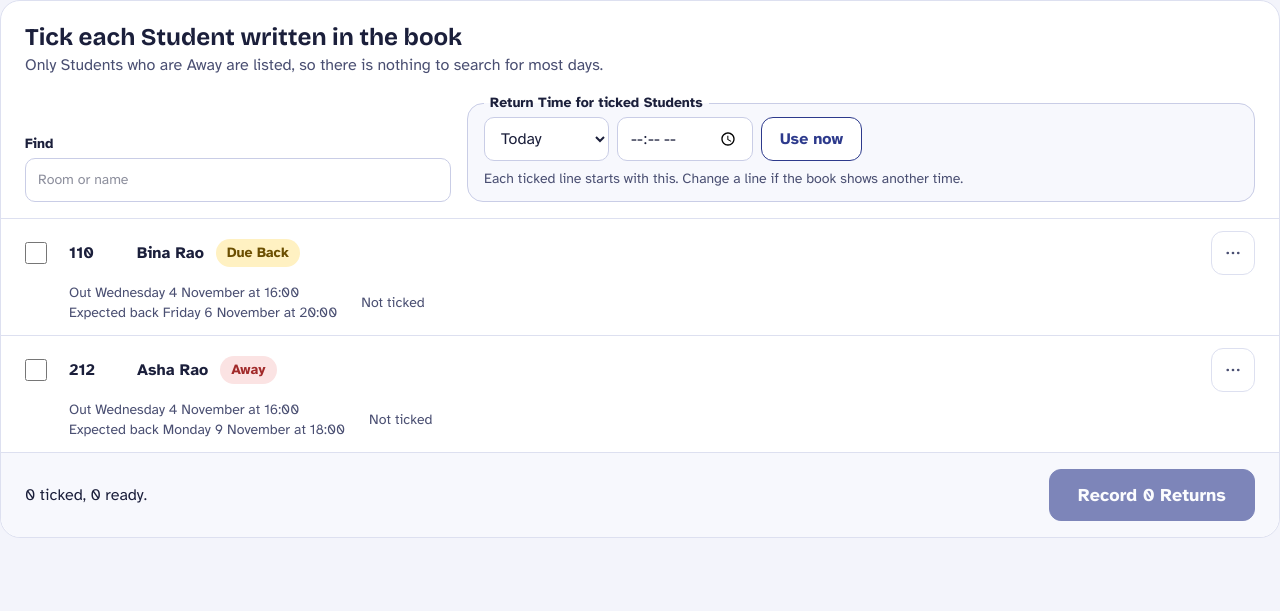
it: the Back-from-Home Book › records each ticked Student with their own day and Return Time
The width and height of the screenshot is (1280, 611).
Type "17:15" into the time field named "Return Time for ticked Students" at (685, 139), box [617,117,753,161]
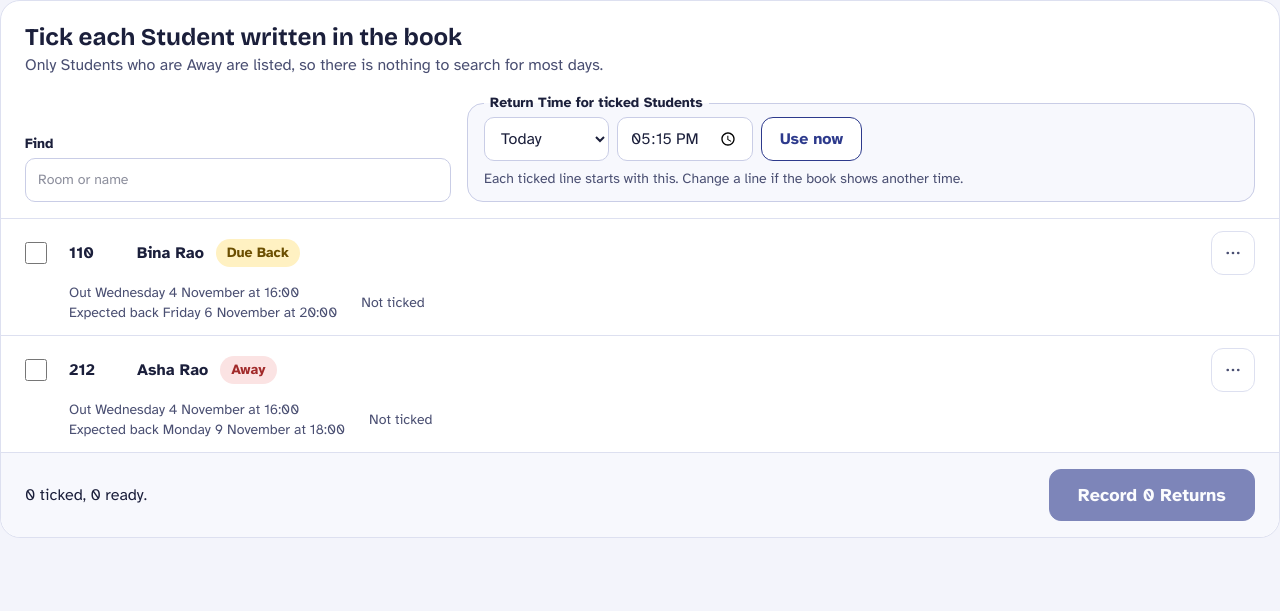
Click the checkbox named "Bina Rao came back" at (36, 253), box [25,242,47,264]
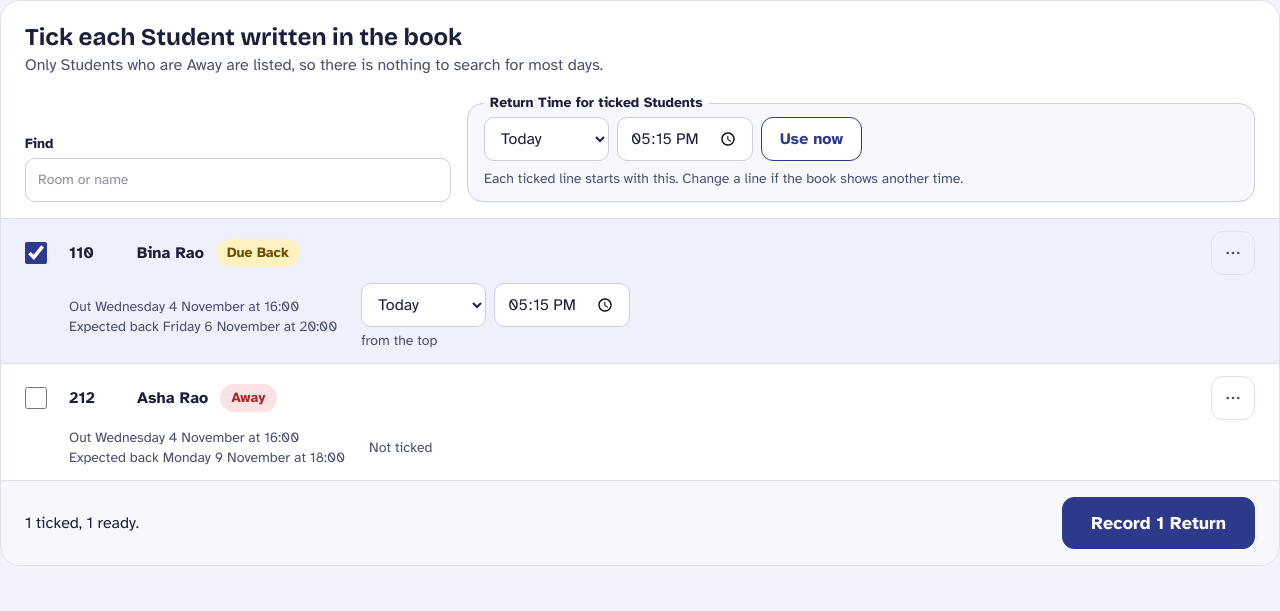
Click the checkbox named "Asha Rao came back" at (36, 398), box [25,387,47,409]
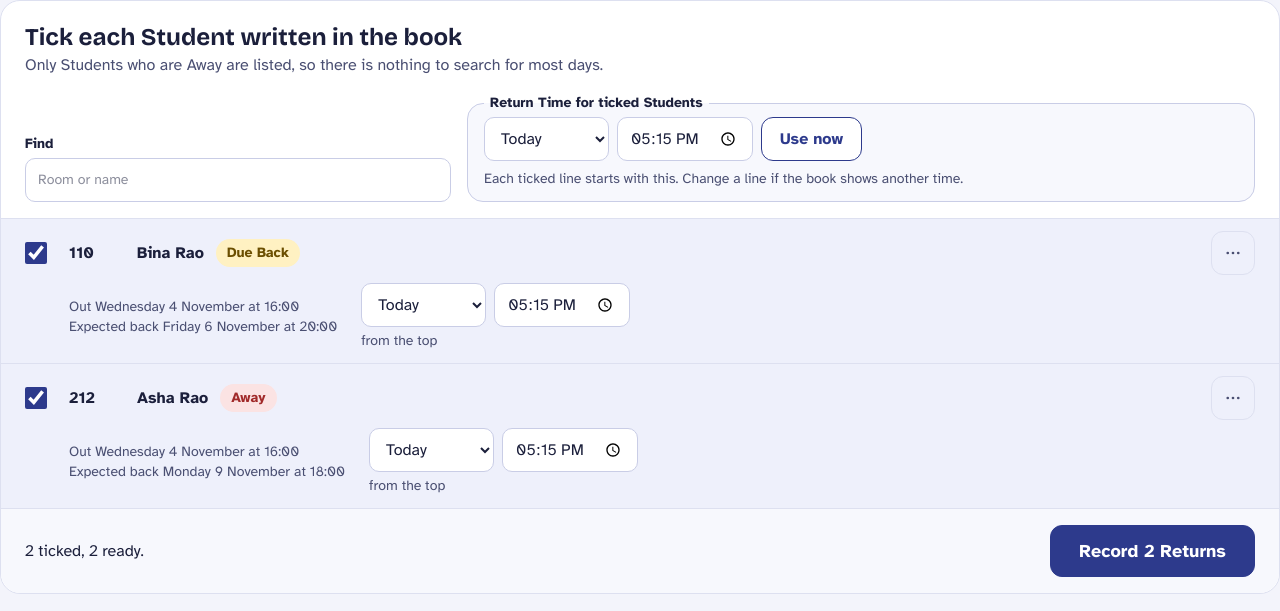
Select "Yesterday" in the dropdown named "Return day for Bina Rao" at (424, 305), box [361,283,486,327]
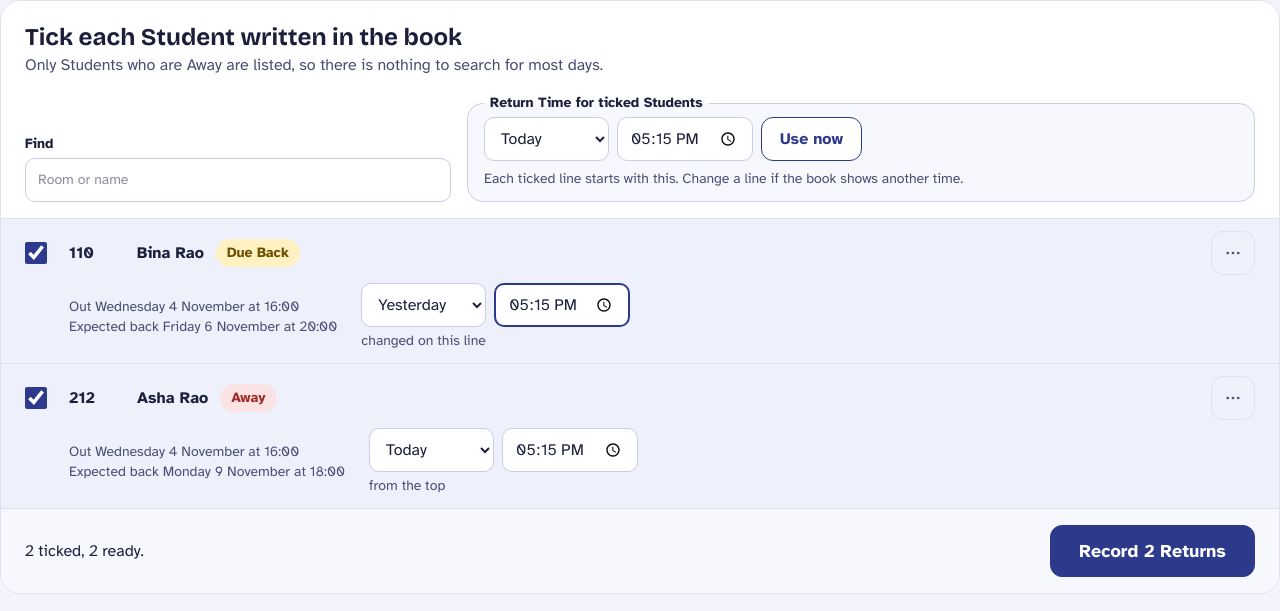
Replace the text in the time field named "Return Time for Bina Rao" with "21:40" at (562, 305), box [494,283,630,327]
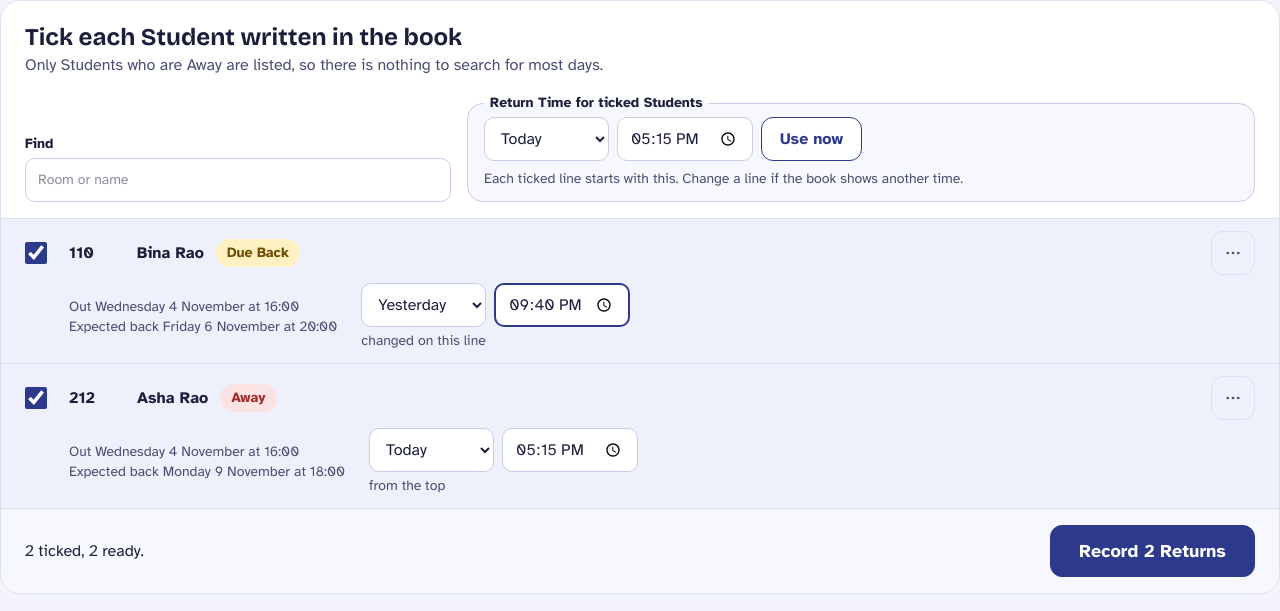
Click the button "Record 2 Returns" at (1153, 551), box [1050,525,1255,577]
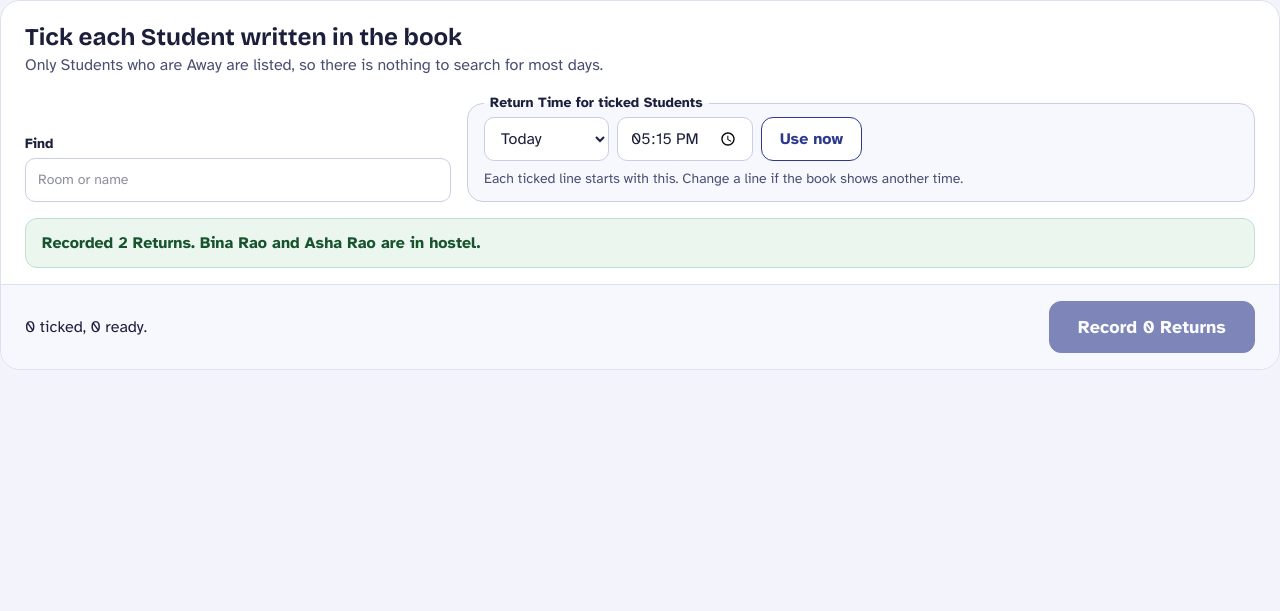
Result: the text "Recorded 2 Returns. Bina Rao and Asha Rao are in hostel." is shown at [25,218,1255,268]
